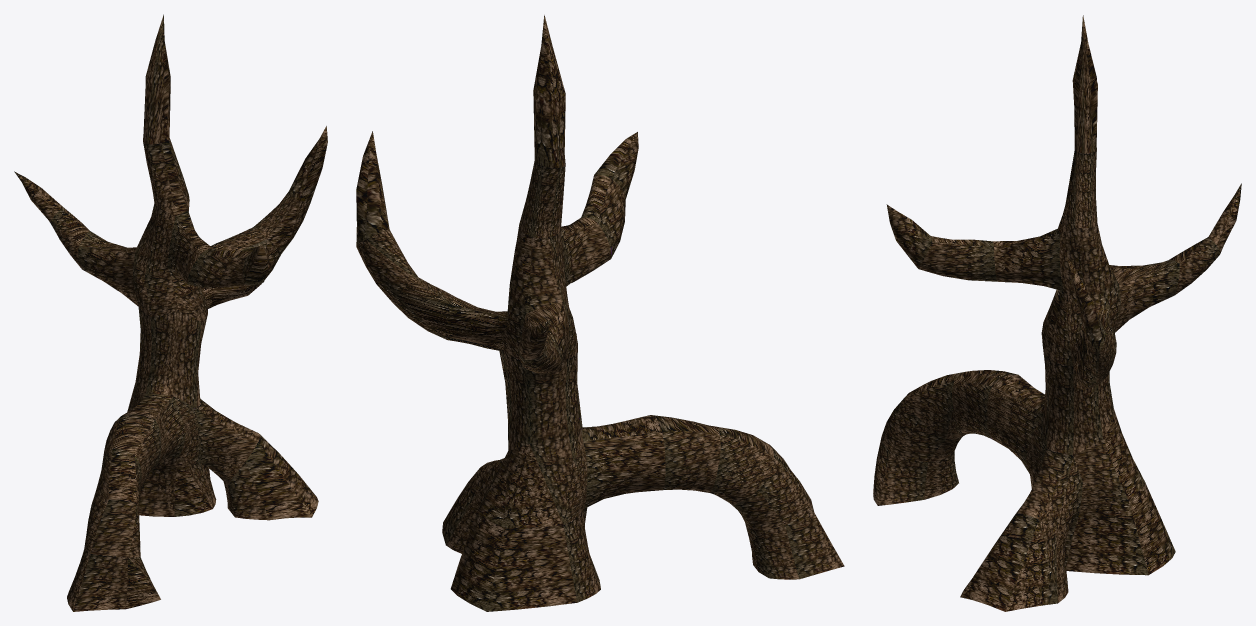
The model's file is tree5.obj.
3 views of the same model, side by side, from view 1: azimuth 30°, elevation 25°; view 2: azimuth 150°, elevation 25°; view 3: azimuth 270°, elevation 25° (orthographic). The views are drawn at different scales.
Visible parts, largest first — view 1: ColobotMesh_1_ColobotMesh_; view 2: ColobotMesh_1_ColobotMesh_; view 3: ColobotMesh_1_ColobotMesh_.
Part boxes in pixels (<box>): ColobotMesh_1_ColobotMesh_: <box>14,14,327,611</box>; ColobotMesh_1_ColobotMesh_: <box>356,15,844,611</box>; ColobotMesh_1_ColobotMesh_: <box>873,15,1241,611</box>.
Size of the model in its own units: 168 by 238 by 146.
